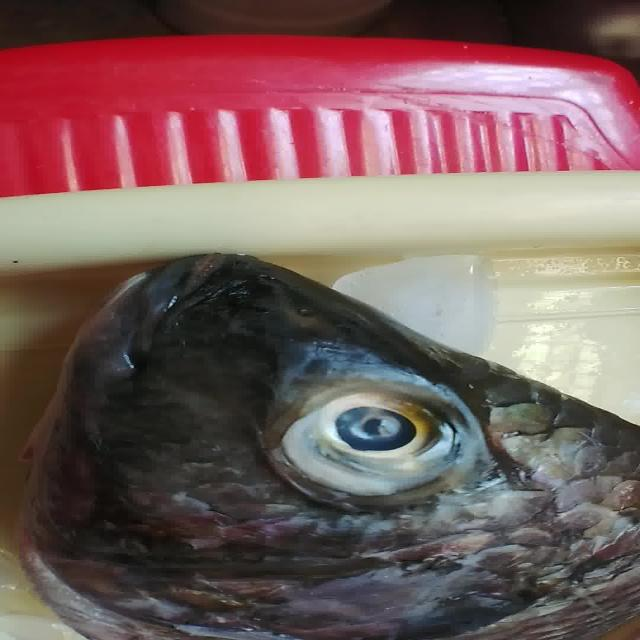Fresh: (249, 367, 502, 508)
